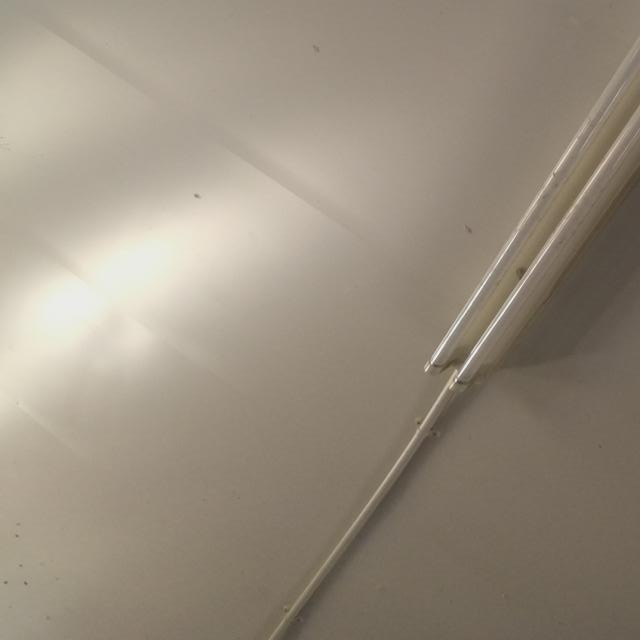fluorescent tube: (377, 0, 640, 421)
